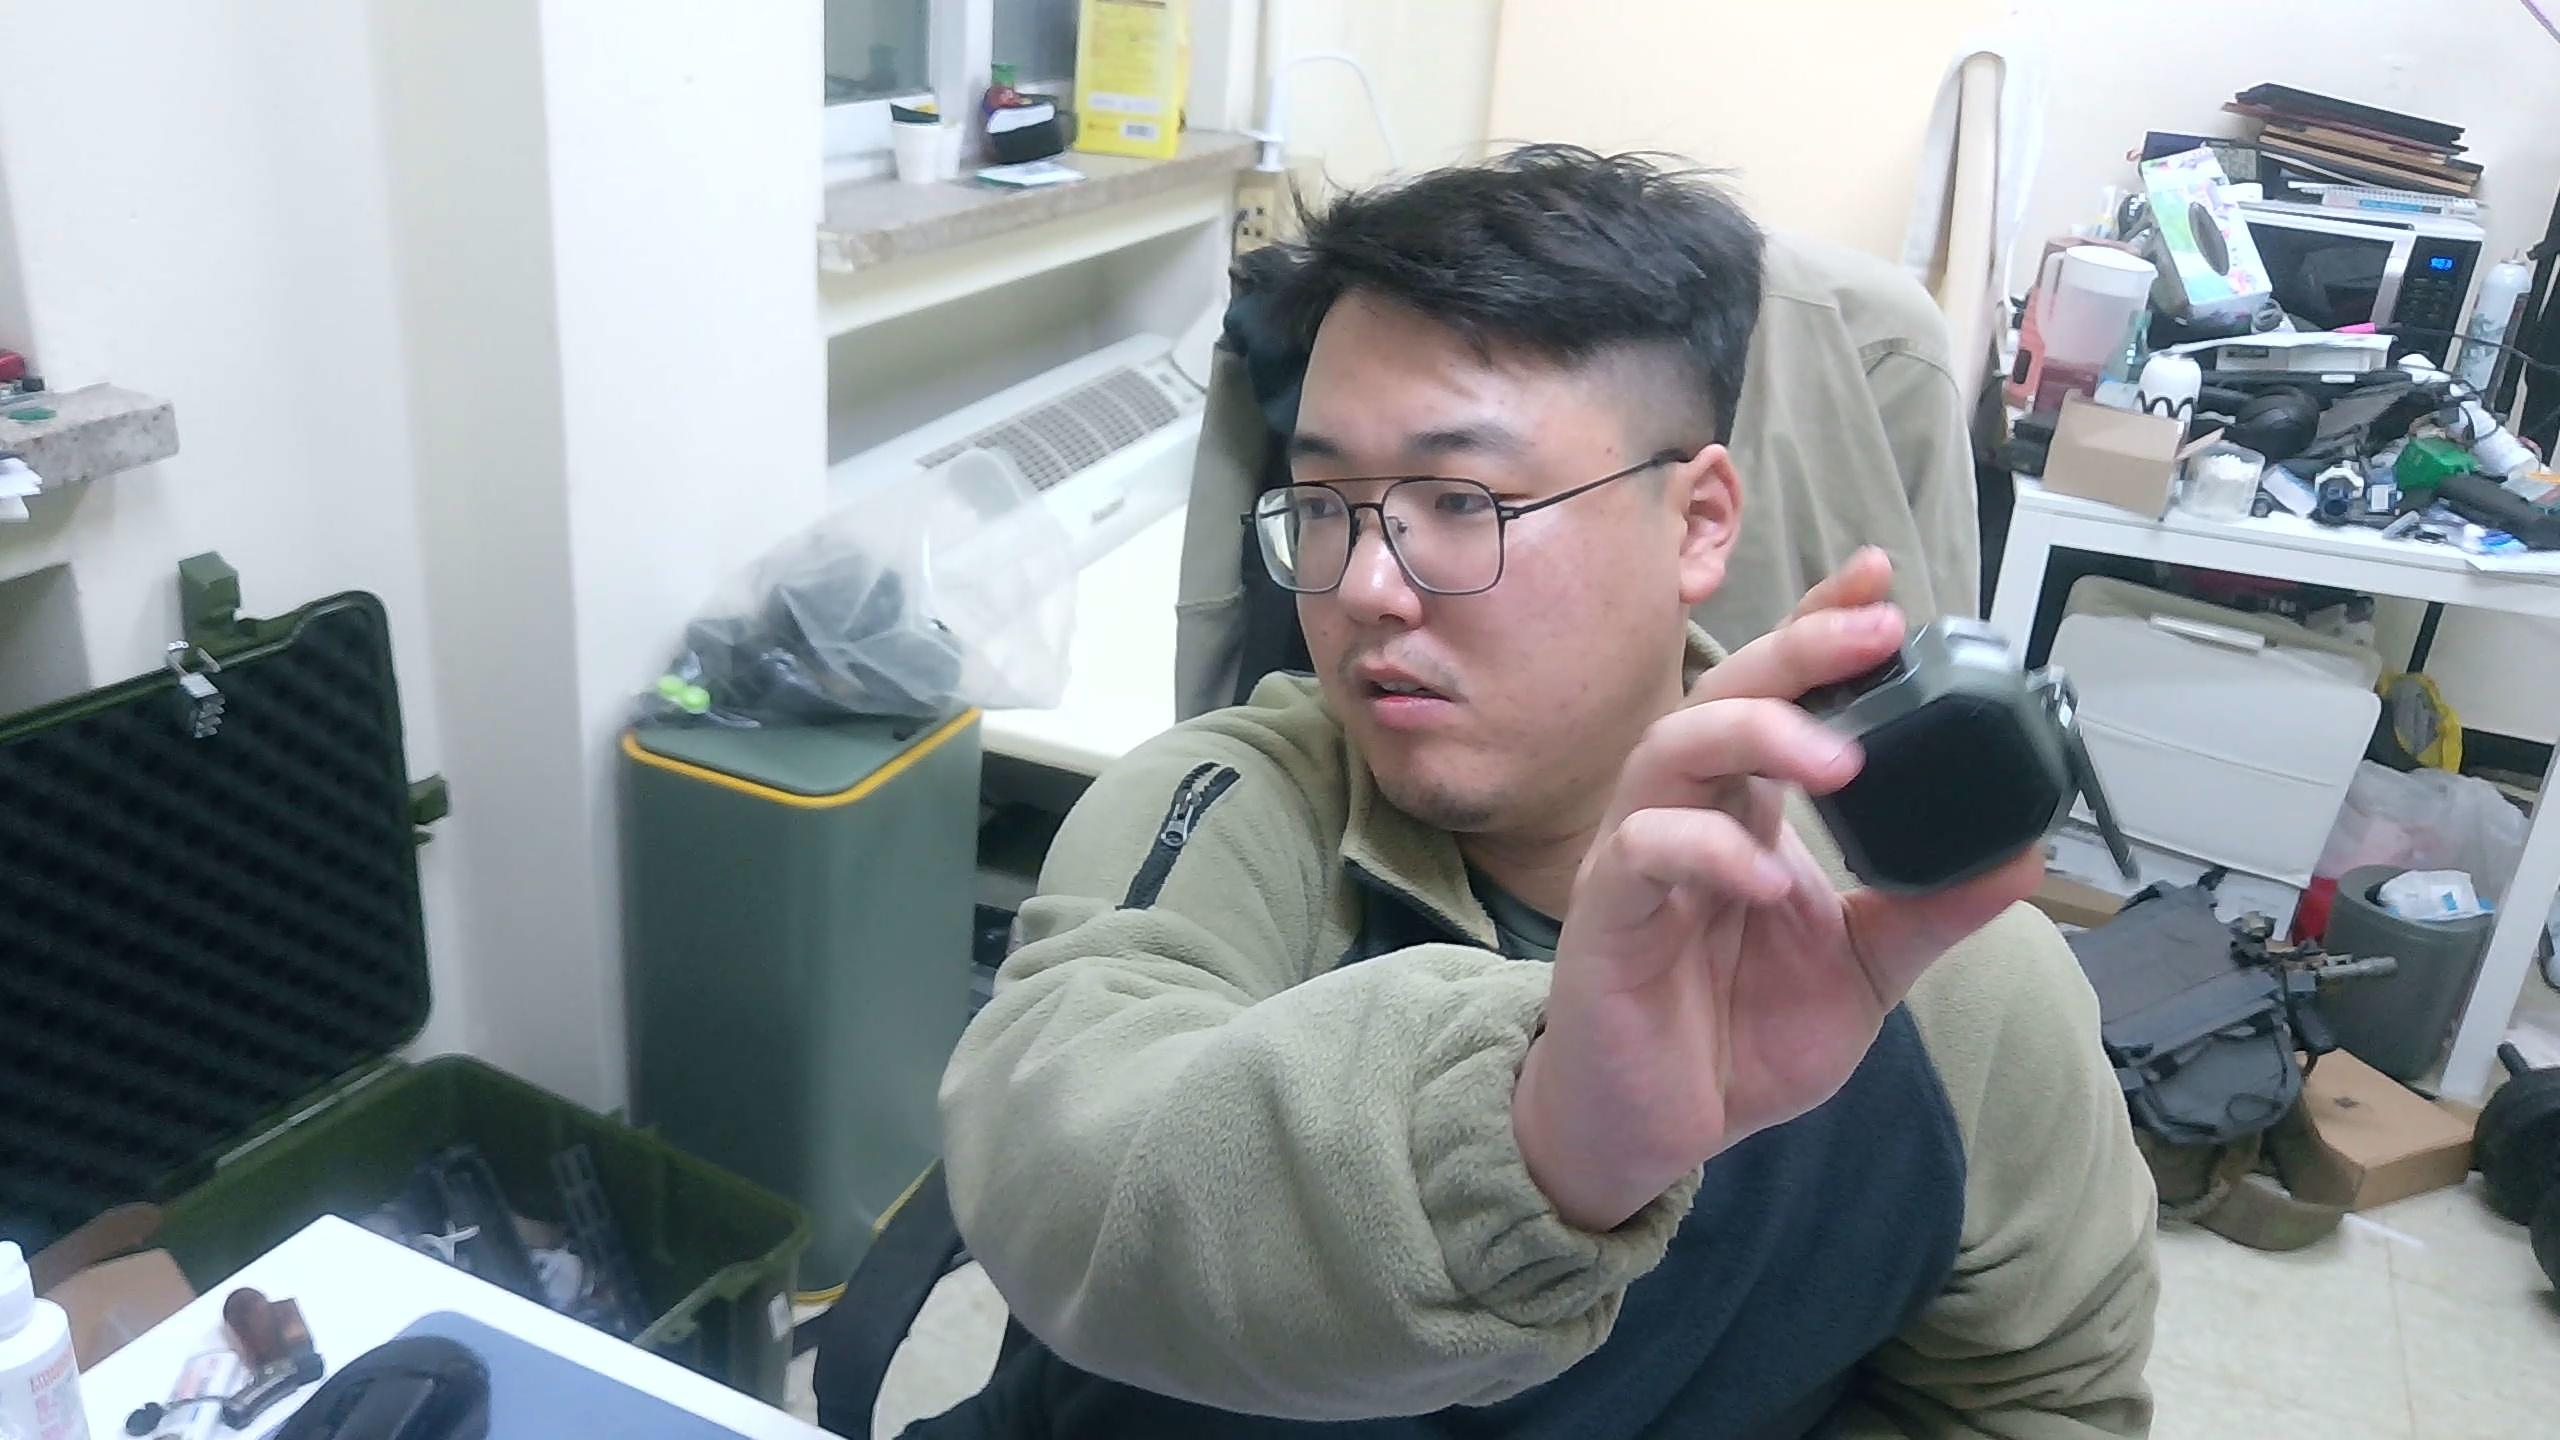blue_pliers: (1790, 612, 2085, 898)
